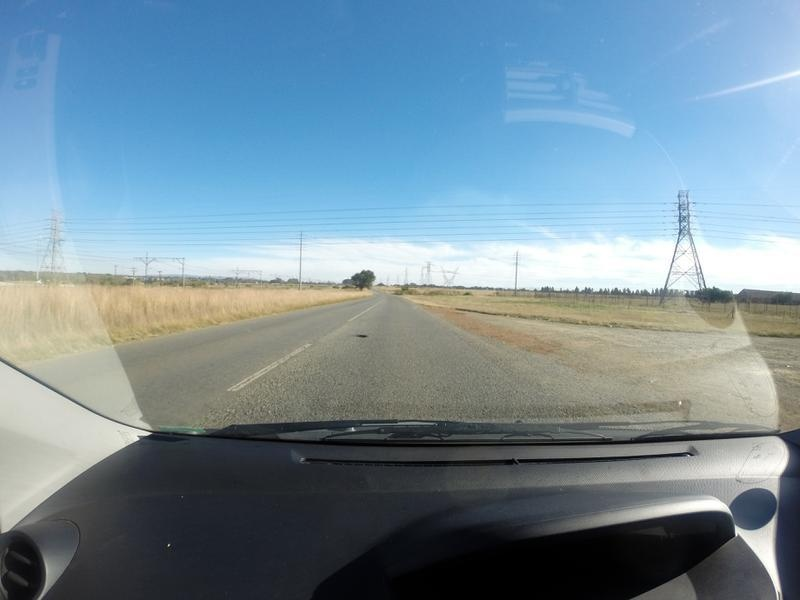pothole: (345, 329, 368, 340)
